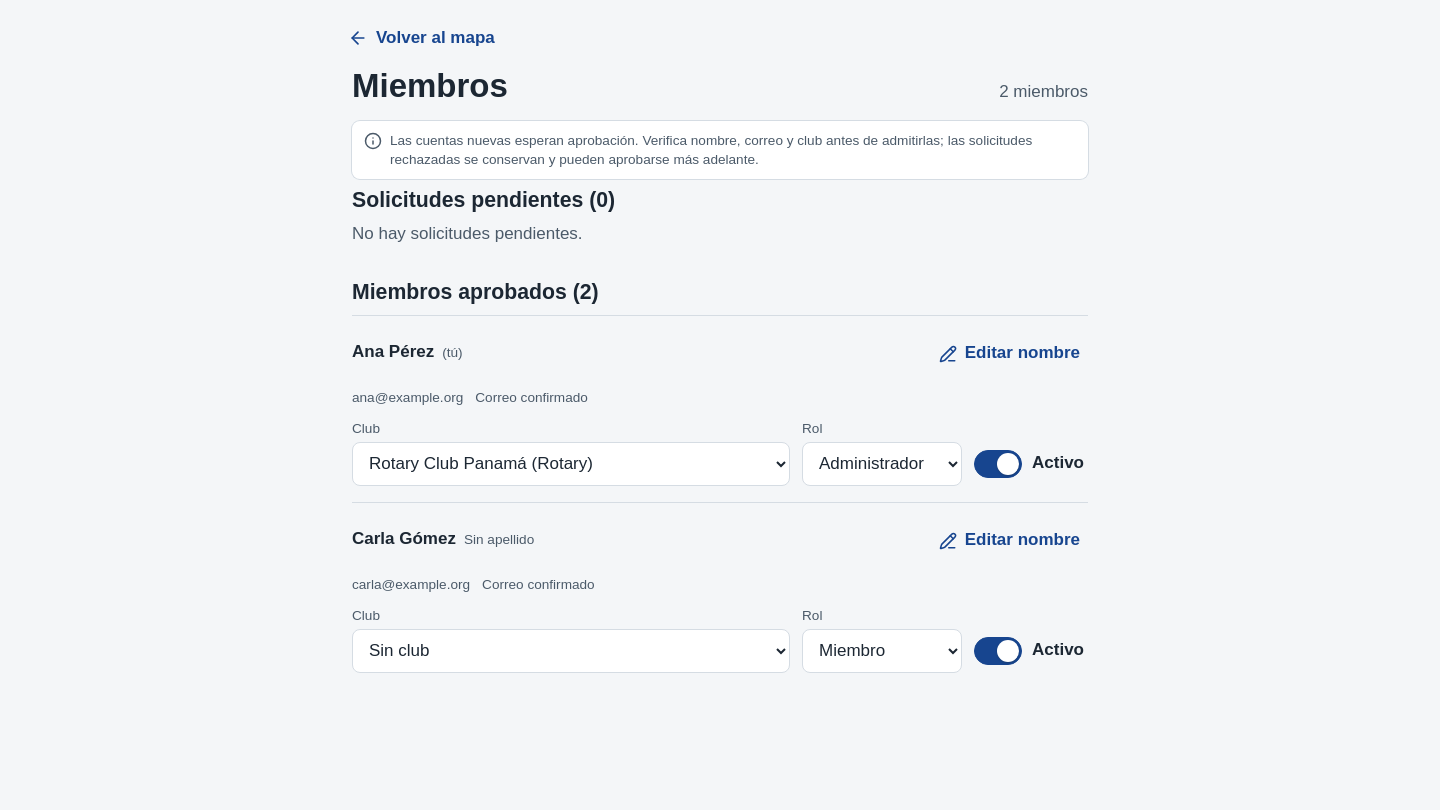
MembersAdmin › edita el nombre y apellido de otro miembro
Click the button with aria-label "Editar nombre de Carla Gómez" at (1009, 541), box left=923, top=519, right=1096, bottom=563
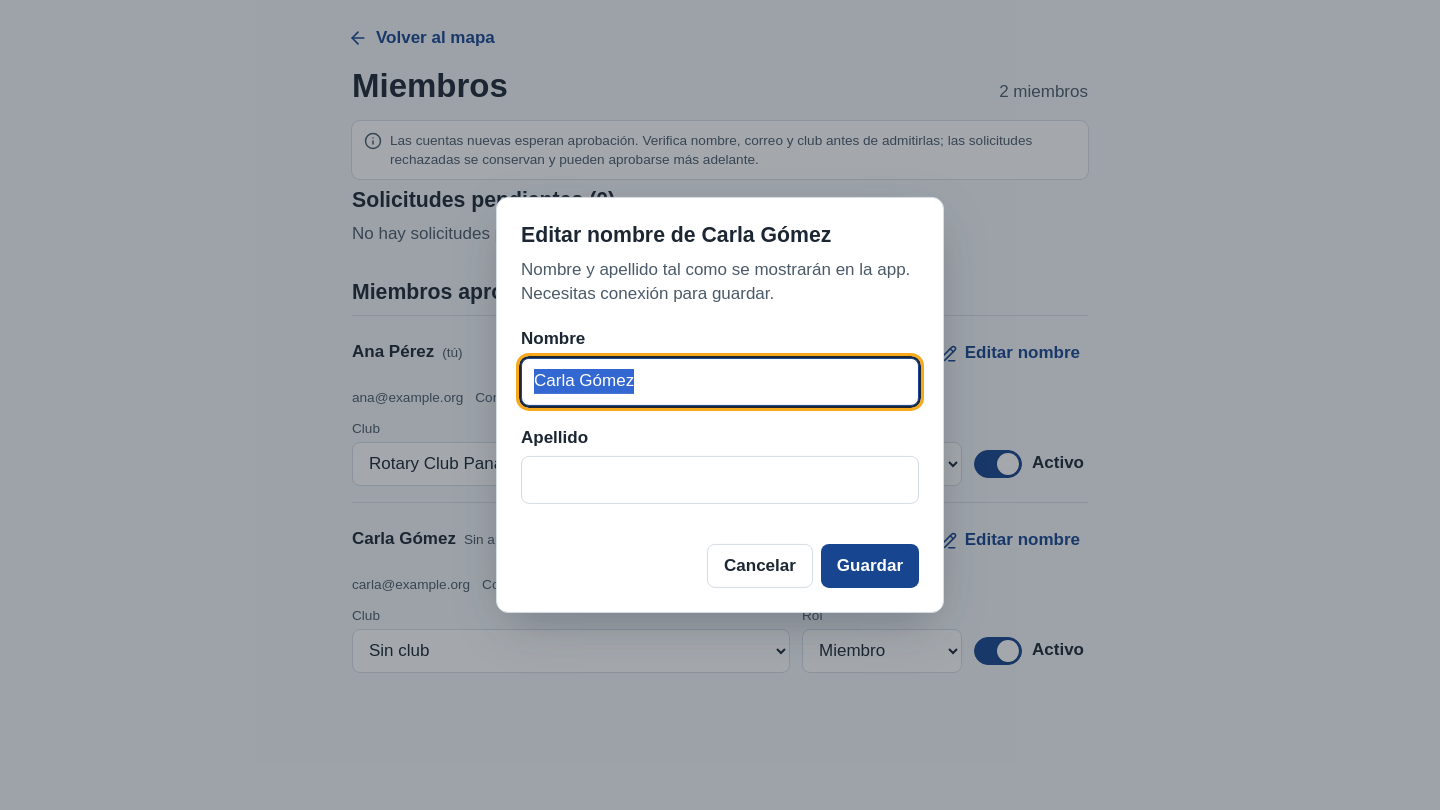
Check: the field labelled "Nombre" holds "Carla Gómez", box left=521, top=358, right=919, bottom=406
Check: the field labelled "Apellido" is empty, box left=521, top=456, right=919, bottom=504
Note: Sin apellido no se guarda.
Click the button "Guardar" at (870, 566), box left=821, top=544, right=919, bottom=588
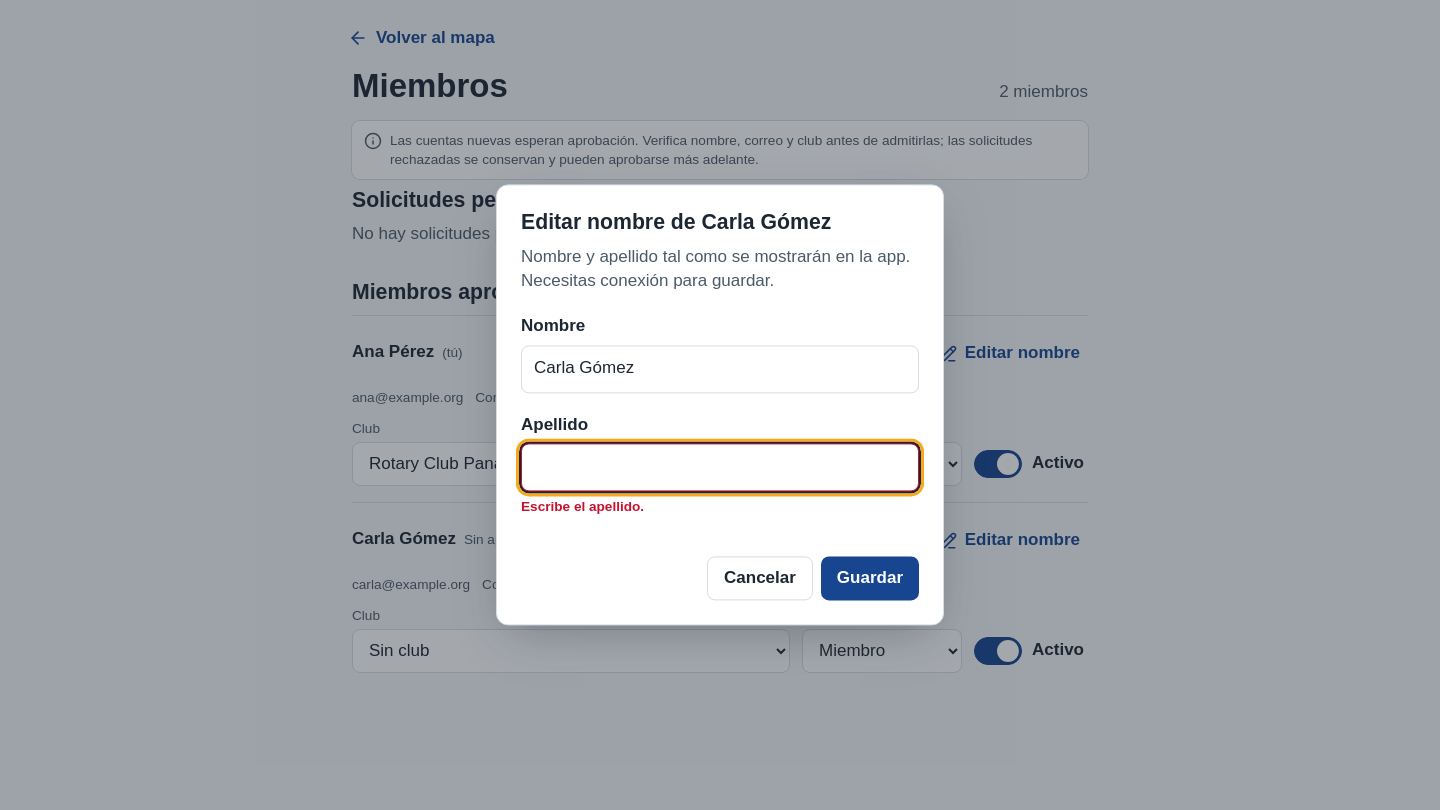
Check: the text "Escribe el apellido." is shown, box left=521, top=500, right=644, bottom=515
Clear the field labelled "Nombre" at (720, 369), box left=521, top=345, right=919, bottom=393
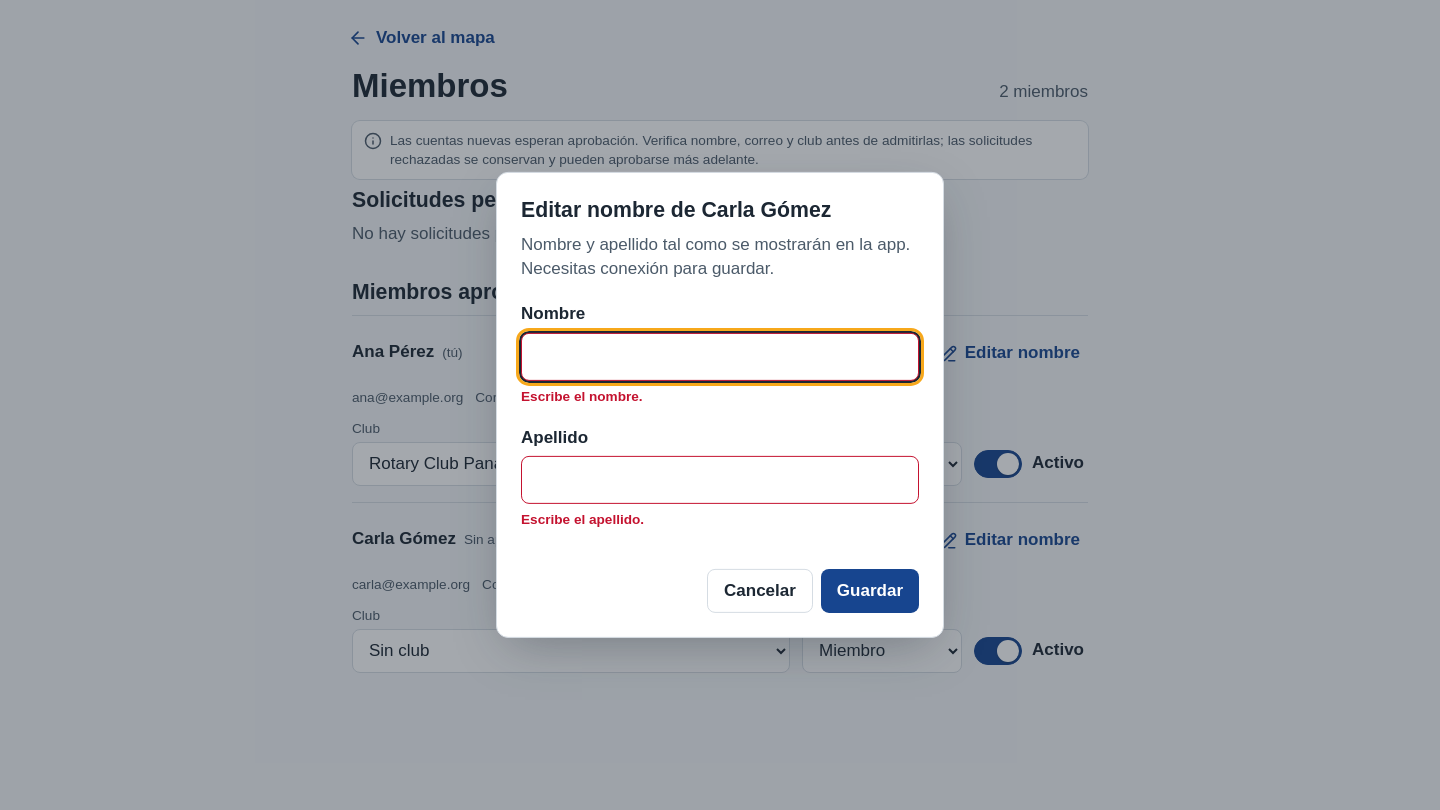
Type "Carla" into the field labelled "Nombre" at (720, 356), box left=521, top=332, right=919, bottom=380
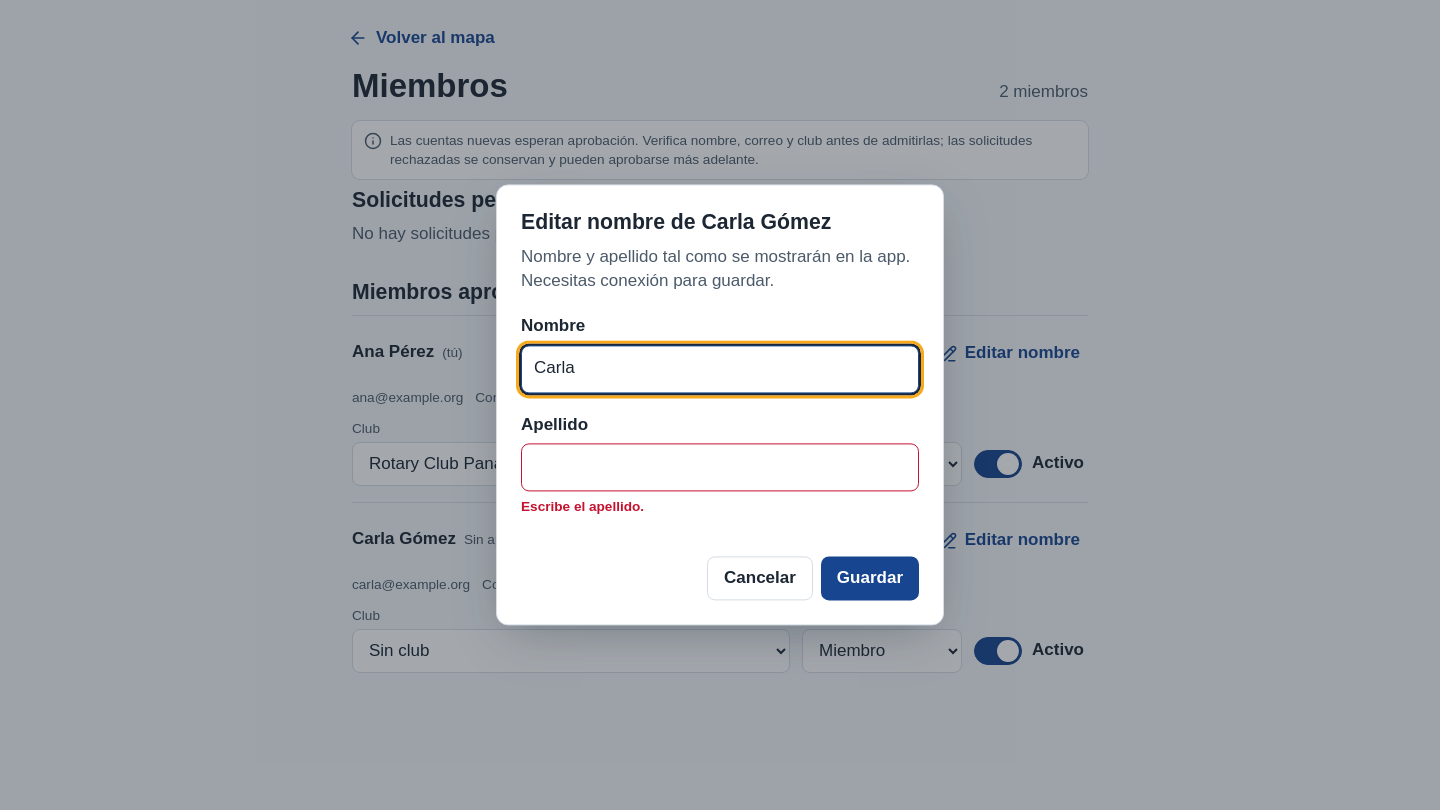
Type " Gómez " into the field labelled "Apellido" at (720, 468), box left=521, top=444, right=919, bottom=492
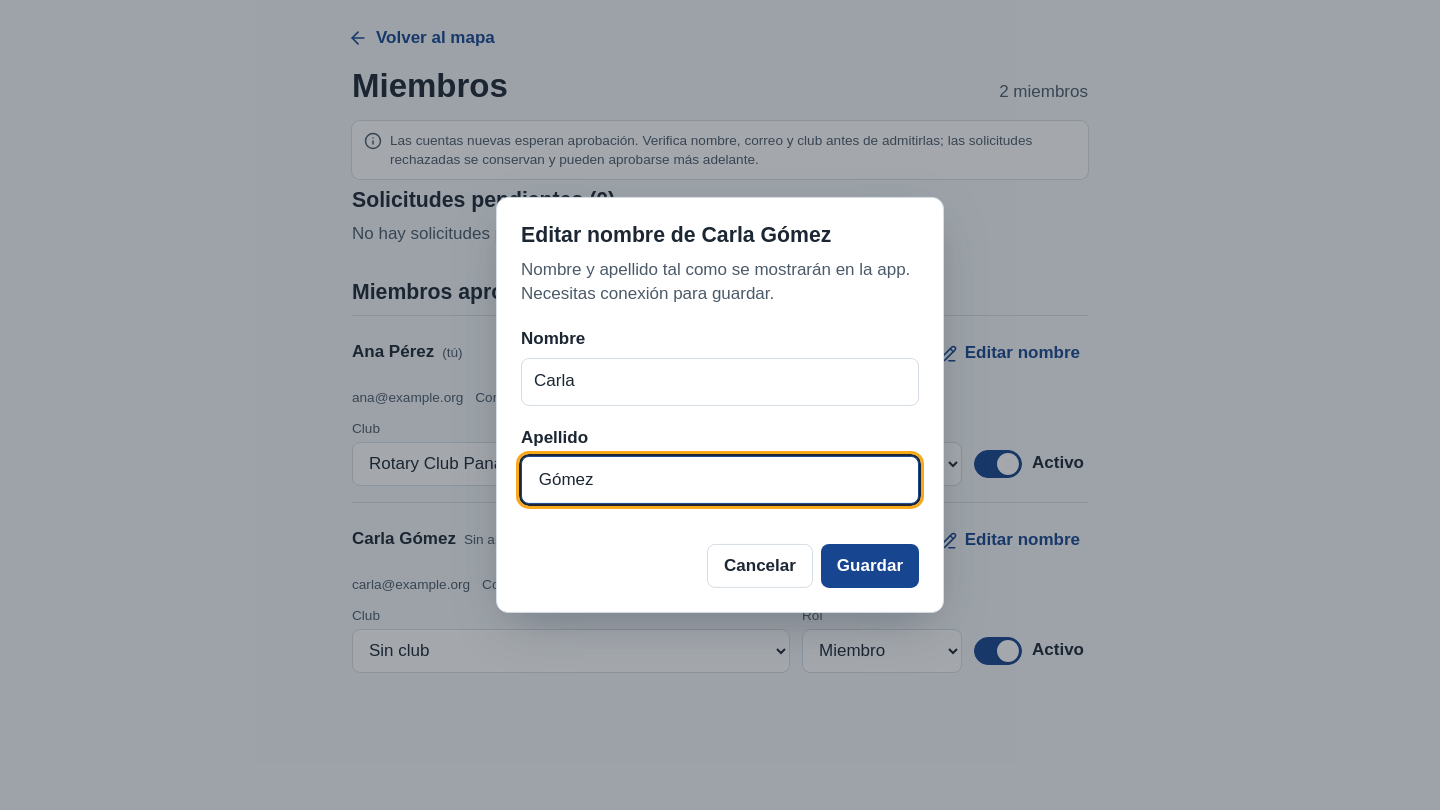
Click the button "Guardar" at (870, 566), box left=821, top=544, right=919, bottom=588
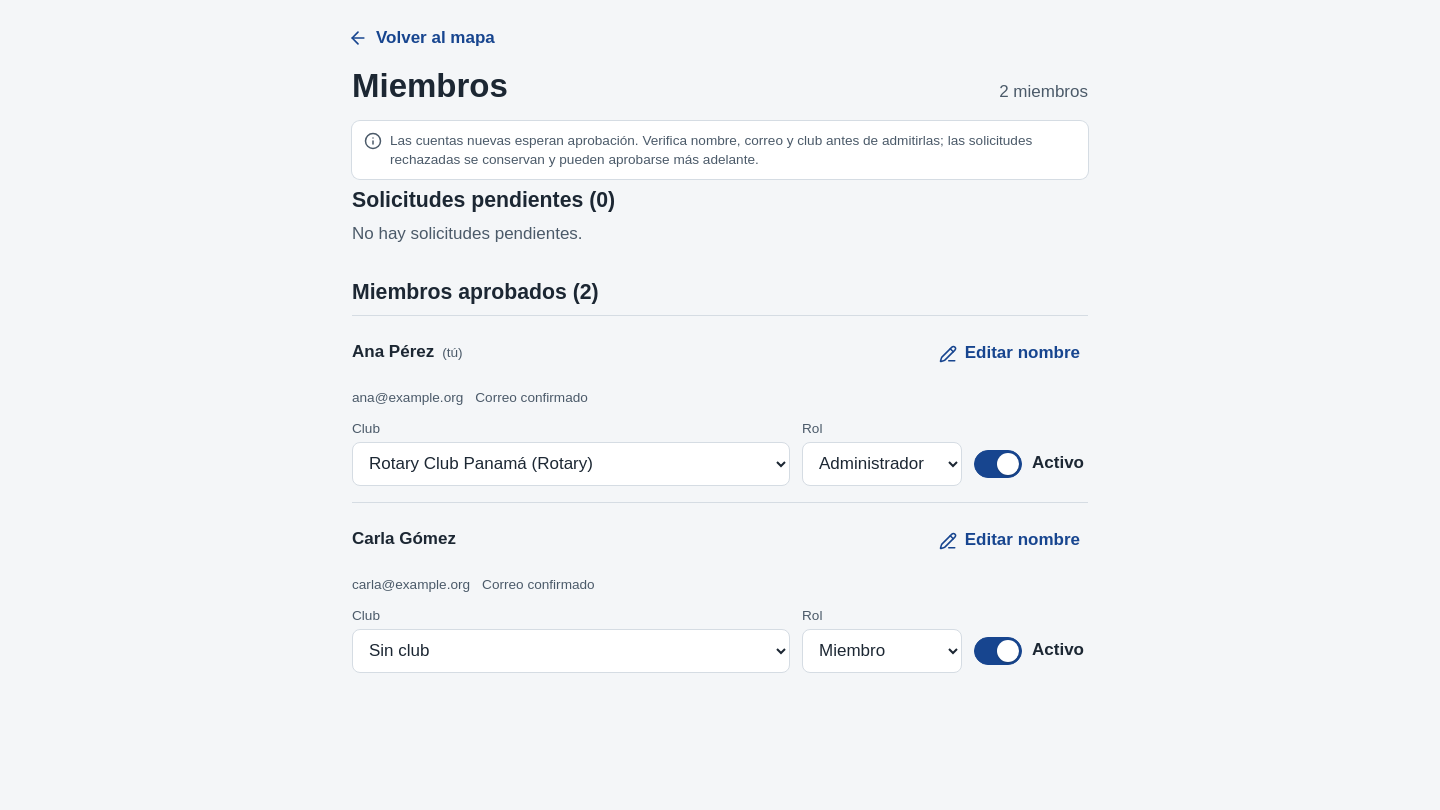
Check: the dialog is gone
Check: the text "Sin apellido" is gone
